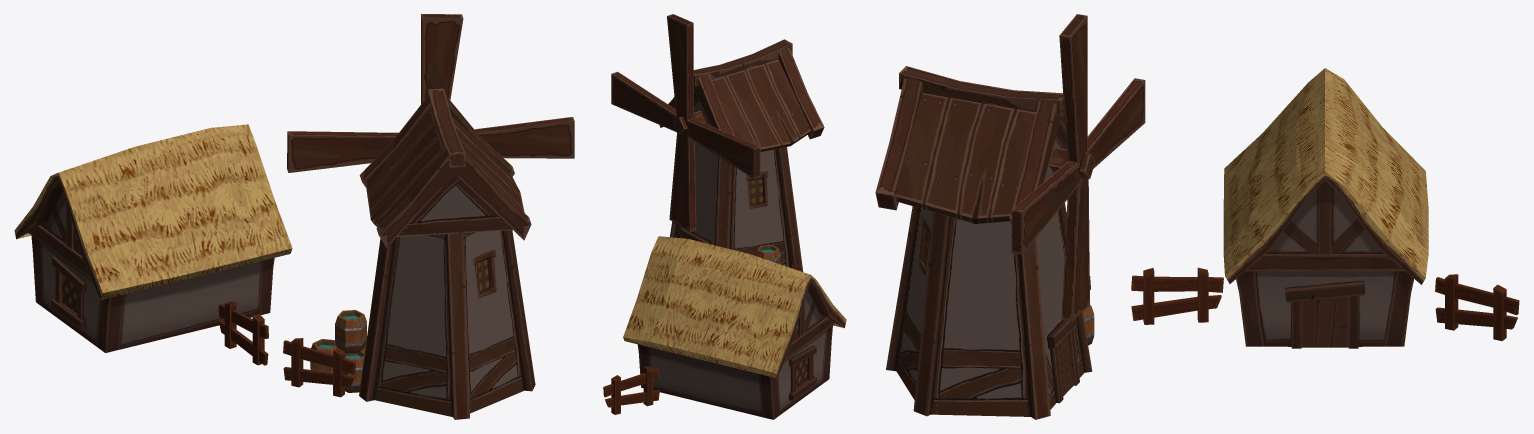
Rendered from thatched house.glb.
3 renders of one model, left to right at view 1: azimuth 30°, elevation 25°; view 2: azimuth 150°, elevation 25°; view 3: azimuth 270°, elevation 25°, orthographic. The views are drawn at different scales.
Visible parts, largest first — view 1: Cylinder.004, Cube.000, Cube.004, Cube.006, Cube.001, Cube.014, Cylinder.008; view 2: Cube.000, Cylinder.004, Cube.006, Cube.004, Cube.002, Cylinder.008; view 3: Cylinder.004, Cube.000, Cube.006, Cube.004, Cube.014, Cube.002, Cube.005, Cube.003.
Part boxes in pixels (x1=…): Cylinder.004: x1=359, y1=88, x2=535, y2=419; Cube.000: x1=14, y1=124, x2=292, y2=300; Cube.004: x1=31, y1=235, x2=274, y2=352; Cube.006: x1=287, y1=14, x2=574, y2=172; Cube.001: x1=283, y1=338, x2=355, y2=397; Cube.014: x1=218, y1=301, x2=268, y2=365; Cylinder.008: x1=335, y1=310, x2=366, y2=353; Cube.000: x1=623, y1=236, x2=846, y2=378; Cylinder.004: x1=659, y1=39, x2=824, y2=271; Cube.006: x1=611, y1=14, x2=760, y2=231; Cube.004: x1=637, y1=325, x2=832, y2=419; Cube.002: x1=603, y1=366, x2=659, y2=414; Cylinder.008: x1=755, y1=245, x2=780, y2=264; Cylinder.004: x1=875, y1=66, x2=1092, y2=419; Cube.000: x1=1223, y1=68, x2=1428, y2=284; Cube.006: x1=1011, y1=14, x2=1145, y2=321; Cube.004: x1=1236, y1=271, x2=1413, y2=348; Cube.014: x1=1131, y1=267, x2=1223, y2=324; Cube.002: x1=1435, y1=274, x2=1519, y2=341; Cube.005: x1=1301, y1=297, x2=1348, y2=347; Cube.003: x1=1057, y1=335, x2=1074, y2=395.
Size of the model in its own units: 11.63 by 9.77 by 14.91.
9 materials, 9 textured.
